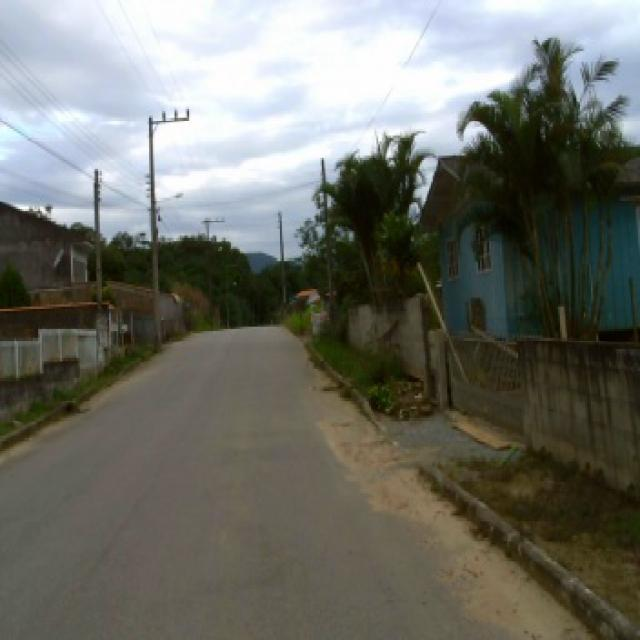Poth-hole: (62, 400, 90, 413)
